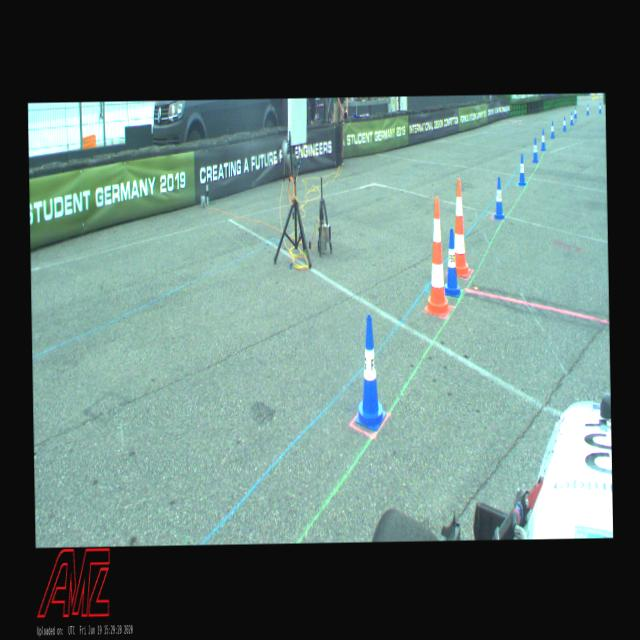blue_cone: (352, 314, 387, 431), (443, 228, 461, 296), (494, 177, 504, 219), (517, 154, 526, 186), (532, 138, 538, 162), (540, 130, 546, 150), (562, 116, 566, 132), (550, 121, 554, 137), (569, 112, 573, 125), (598, 102, 602, 113), (586, 104, 589, 115), (574, 106, 576, 118)
large_orange_cone: (422, 196, 452, 317), (454, 178, 471, 276)
